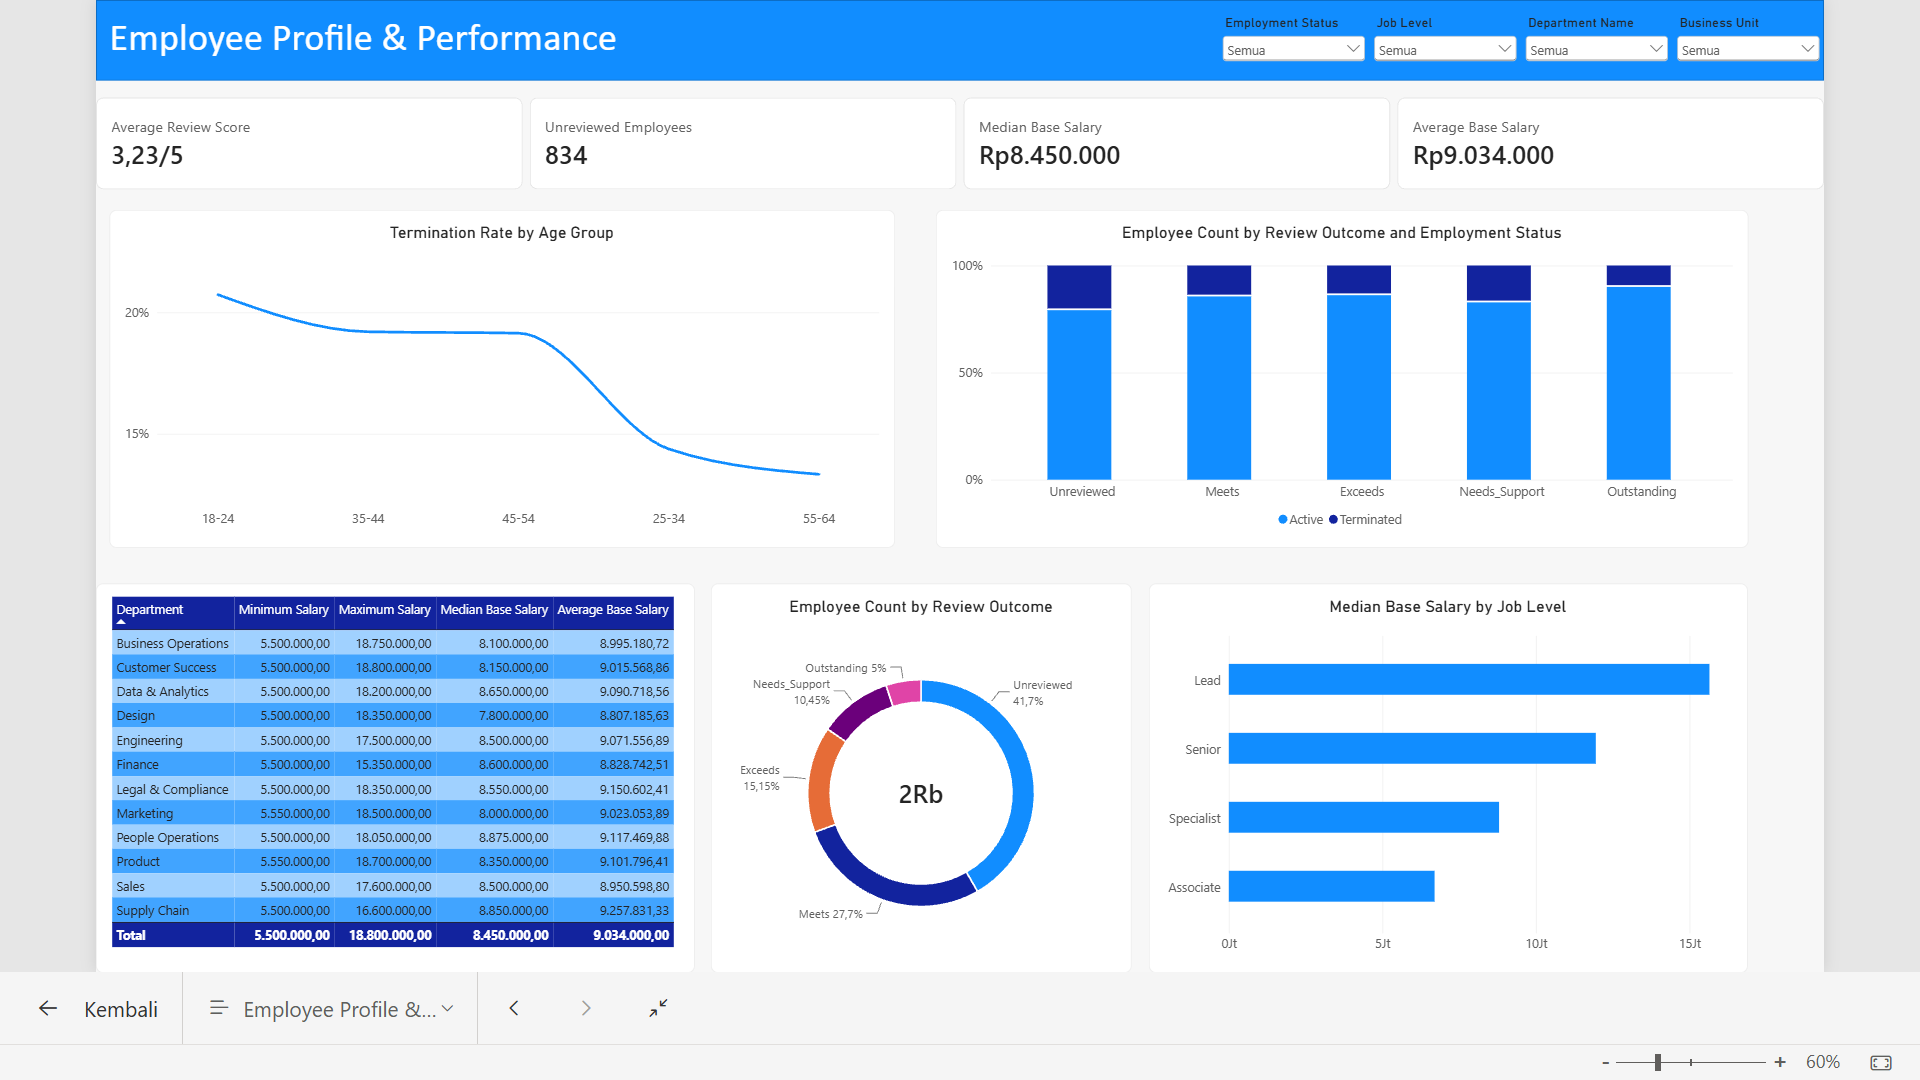

Layout of this report page (visuals, bound fields, positions):
{"tool":"powerbi","page":{"name":"Employee Profile & Performance","canvas":[1920,1080],"ordinal":2},"visuals":[{"type":"shape","box":[0,0,1920,89.7],"z":0},{"type":"lineChart","title":"Termination Rate by Age Group","fields":{"Category":["employees.age_band"],"Y":["_DAX.Persentase Karyawan Keluar"]},"box":[16,232,872,356],"z":1000},{"type":"donutChart","title":"Employee Count by Review Outcome","fields":{"Category":["employees.Hasil Review"],"Y":["CountNonNull(employees.employee_id)"]},"box":[704,608,468,472],"z":2000},{"type":"cardVisual","fields":{"Data":["_DAX.Average Review Score Display","_DAX.Penilaian Kosong","_DAX.Median Gaji Pokok","_DAX.Rata-Rata Gaji Pokok"]},"box":[0,107.5,1920,102.5],"z":3000},{"type":"barChart","title":"Median Base Salary by Job Level","fields":{"Category":["job_roles.job_level"],"Y":["Median(employment_records.base_salary)"]},"box":[1198,608,666,472],"z":4000},{"type":"hundredPercentStackedColumnChart","title":"Employee Count by Review Outcome and Employment Status","fields":{"Category":["employees.Hasil Review"],"Series":["employment_records.employment_status"],"Y":["CountNonNull(employment_records.employee_id)"]},"box":[960,232,904,356],"z":5000},{"type":"tableEx","title":"Salary Statistics by Department","fields":{"Values":["departments.department_name","_DAX.Gaji Minimum","_DAX.Gaji Maksimum","_DAX.Median Gaji Pokok","_DAX.Rata-Rata Gaji Pokok"]},"box":[16,608,666,472],"z":6000},{"type":"textbox","box":[60,16,674,74],"z":7000},{"type":"image","box":[0,0,60,90],"z":8000}]}

Visuals, with their boxes on the page's 1920x1080 design canvas (x1, y1, x2, y2). These are canvas units, not pixel positions in the 1920x1080 screenshot, which may show the page scaled, cropped or inside an application window:
shape: [x1=0, y1=0, x2=1920, y2=90]
"Termination Rate by Age Group" lineChart: [x1=16, y1=232, x2=888, y2=588]
"Employee Count by Review Outcome" donutChart: [x1=704, y1=608, x2=1172, y2=1080]
cardVisual - _DAX.Average Review Score Display x _DAX.Penilaian Kosong: [x1=0, y1=108, x2=1920, y2=210]
"Median Base Salary by Job Level" barChart: [x1=1198, y1=608, x2=1864, y2=1080]
"Employee Count by Review Outcome and Employment Status" hundredPercentStackedColumnChart: [x1=960, y1=232, x2=1864, y2=588]
"Salary Statistics by Department" tableEx: [x1=16, y1=608, x2=682, y2=1080]
textbox: [x1=60, y1=16, x2=734, y2=90]
image: [x1=0, y1=0, x2=60, y2=90]
